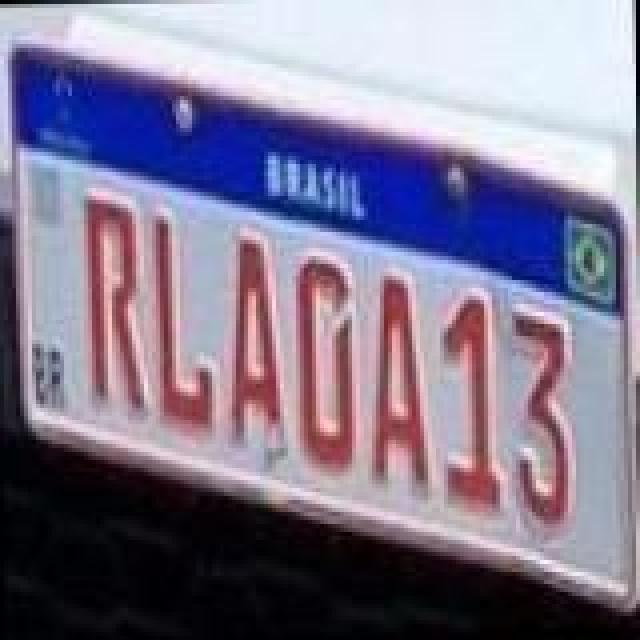1: (442, 284, 506, 516)
3: (514, 306, 578, 538)
A: (368, 270, 436, 494), (224, 240, 288, 464)
D: (290, 252, 358, 476)
L: (150, 208, 218, 440)
R: (80, 194, 152, 418)
